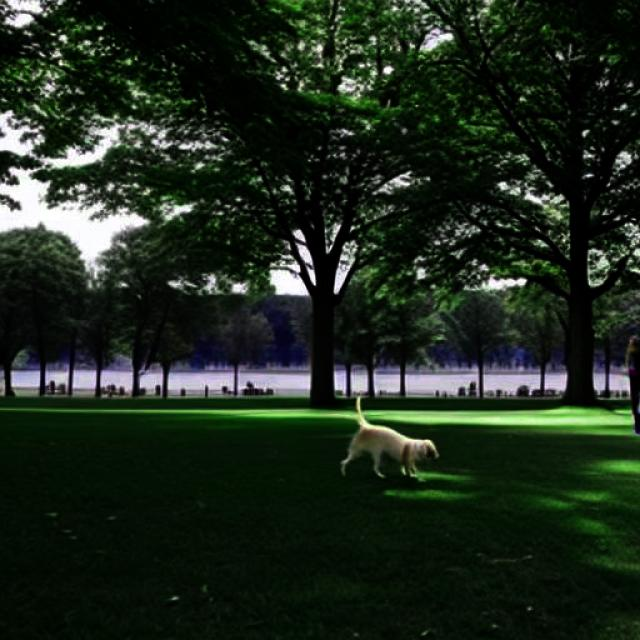Dog: (338, 395, 439, 481)
